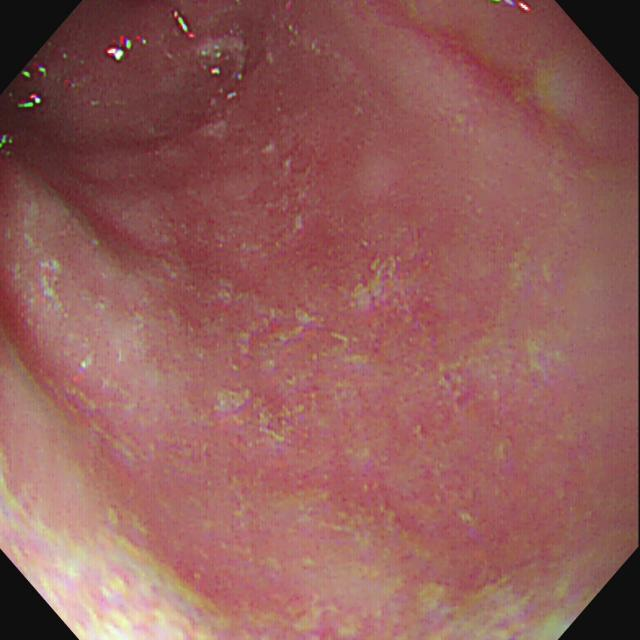A: (420, 30, 548, 132), (69, 209, 225, 276), (2, 268, 41, 352)
J: (23, 201, 65, 316), (353, 256, 396, 312), (192, 35, 251, 69), (258, 403, 306, 444), (280, 309, 325, 350), (240, 308, 278, 356), (214, 386, 253, 417)
U: (170, 7, 196, 39), (106, 36, 133, 64), (16, 94, 42, 111), (492, 2, 529, 11)
